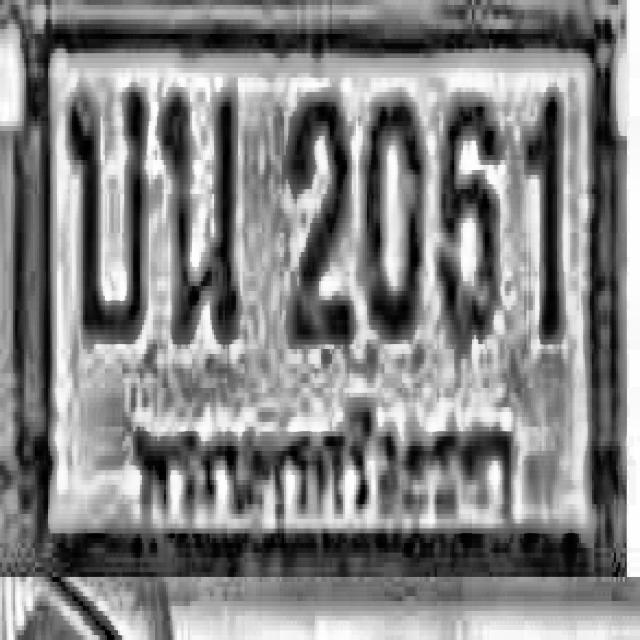license-plate: (39, 19, 612, 568)
